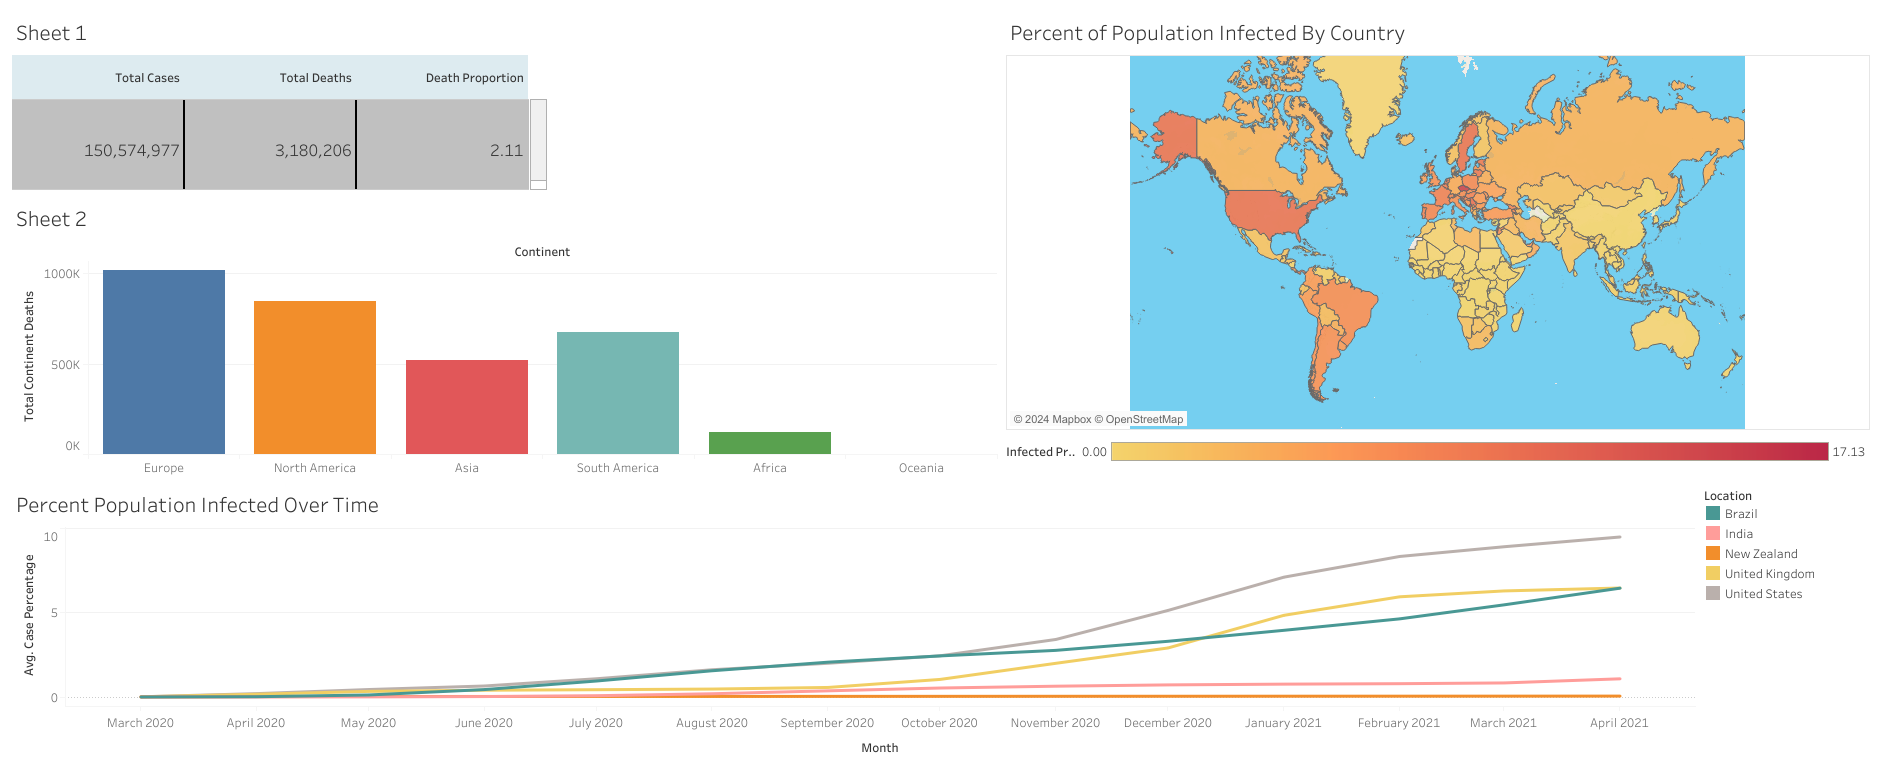

The dashboard page shown, as its layout file describes it:
{"tool":"tableau","page":{"name":"Dashboard 1","canvas":[1000,1000],"units":"permille","ordinal":0},"visuals":[{"type":"worksheet","title":"Sheet 1","mark":"Automatic","box":[5,9.2,527.4,240.2]},{"type":"worksheet","title":"Sheet 3","mark":"Automatic","box":[532.4,9.2,462.6,550.8]},{"type":"worksheet","title":"Sheet 2","mark":"Automatic","rows":["total_continent_deaths"],"cols":["continent"],"box":[5,249.4,527.4,370.7]},{"type":"legend","title":"Sheet 3","param":"[federated.190ztgq01v4dfy14cm2y104zp7pb].[sum:case_percentage:qk]","box":[532.4,560,462.6,60]},{"type":"worksheet","title":"Sheet 4","mark":"Automatic","rows":["case_percentage"],"cols":["date"],"box":[5,620.1,897.2,370.7]},{"type":"legend","title":"Sheet 4","param":"[federated.1wzfuak14oomvv1coh67f0go5234].[none:location:nk]","box":[902.1,620.1,92.9,370.7]}]}

Visuals, with their boxes on the dashboard's canvas, which has no fixed pixel size, in thousandths of its width and height (x1, y1, x2, y2). These are canvas units, not pixel positions in the 1881x774 screenshot, which may show the page scaled, cropped or inside an application window:
"Sheet 1" worksheet: 5 9 532 249
"Sheet 3" worksheet: 532 9 995 560
"Sheet 2" worksheet: 5 249 532 620
"Sheet 3" legend: 532 560 995 620
"Sheet 4" worksheet: 5 620 902 991
"Sheet 4" legend: 902 620 995 991
